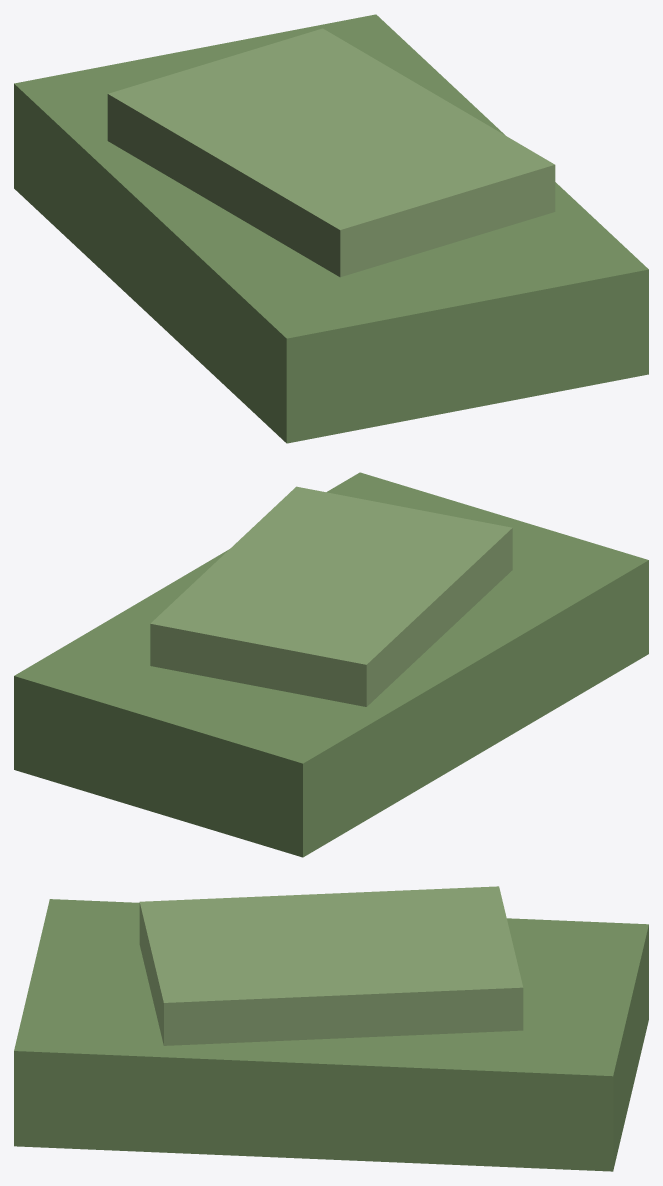
Rendered from structure.glb.
3 renders of one model, top to bottom at view 1: azimuth 30°, elevation 25°; view 2: azimuth 150°, elevation 25°; view 3: azimuth 270°, elevation 25°, orthographic. The views are drawn at different scales.
Parts seen in each view (by area): view 1: Box1, Box2; view 2: Box1, Box2; view 3: Box1, Box2.
Boxes of the visible parts, <box> form: Box1: <box>14,14,648,443</box>; Box2: <box>107,28,555,277</box>; Box1: <box>14,472,648,857</box>; Box2: <box>150,486,512,706</box>; Box1: <box>14,899,648,1171</box>; Box2: <box>139,886,523,1045</box>.
Size of the model in its own units: 71.07 by 25.87 by 108.
